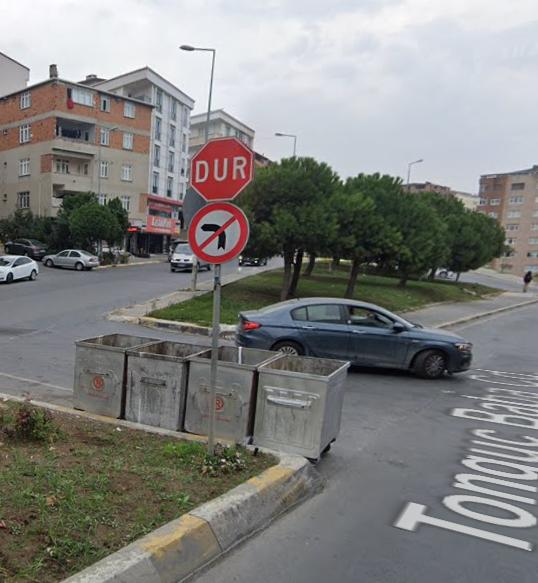leftturnsareforbidden: (190, 203, 251, 260)
stop: (192, 136, 251, 199)
